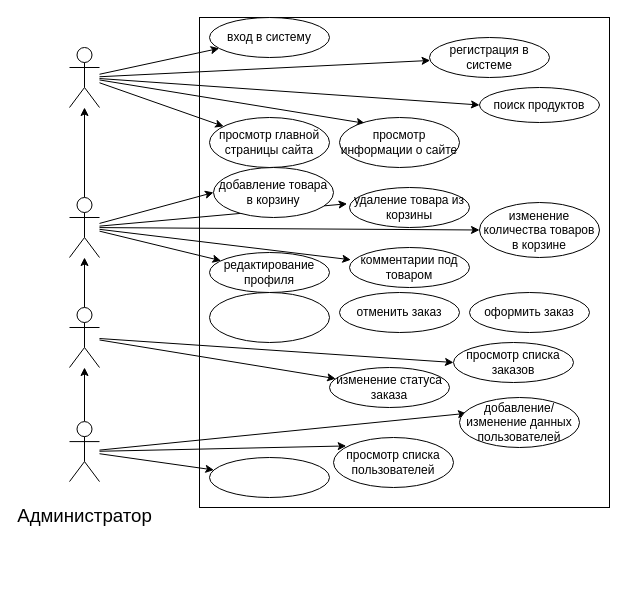
This 627x606 diagram has some shape labels left out. Here are the shapes that lost their labels. From the top down, the box of each, then its label:
(68, 46, 100, 108): Гость
(68, 196, 100, 258): Пользователь
(68, 306, 100, 368): Менеджер
(208, 292, 330, 342): просмотреть историю заказов
(208, 456, 330, 498): просмотр списка менеджеров
